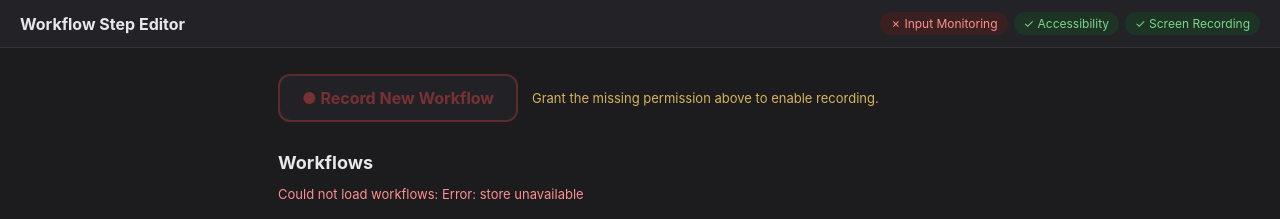
landing container error channels › keeps the workflow-load error visible after a permission request
Expected: the message shows "Could not load workflows", [278,186,584,202]
What coordinates should you click on to do the following:
click the button "✗ Input Monitoring"
I would click on:
 (944, 24)
Its box is [880,12,1008,35].
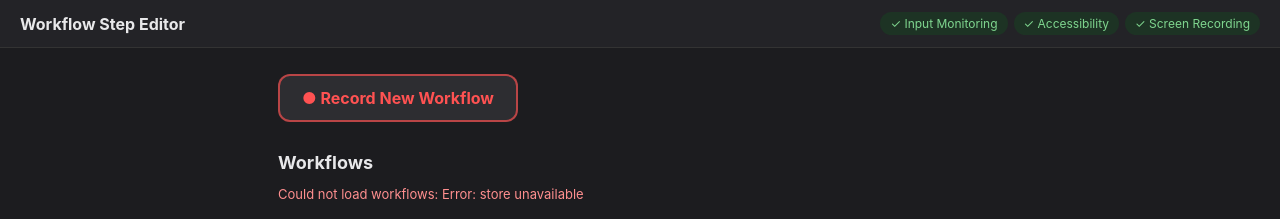
Expected: the message shows "Could not load workflows", [278,186,584,202]
Expected: the button "✓ Input Monitoring" is shown, [880,12,1008,35]
